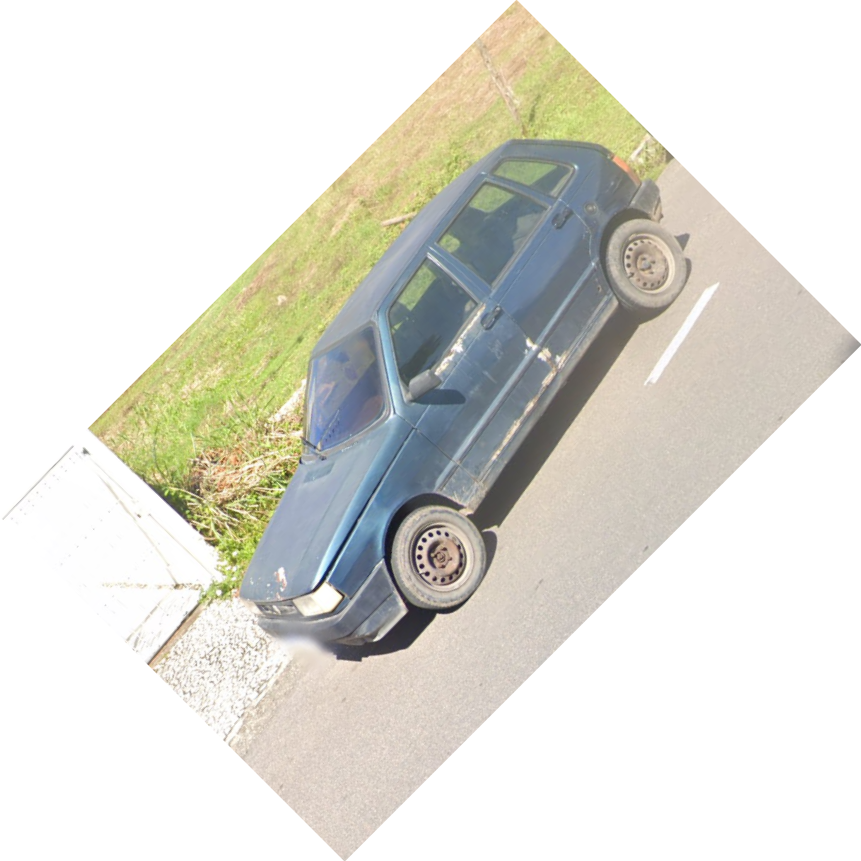car: (238, 132, 686, 652)
